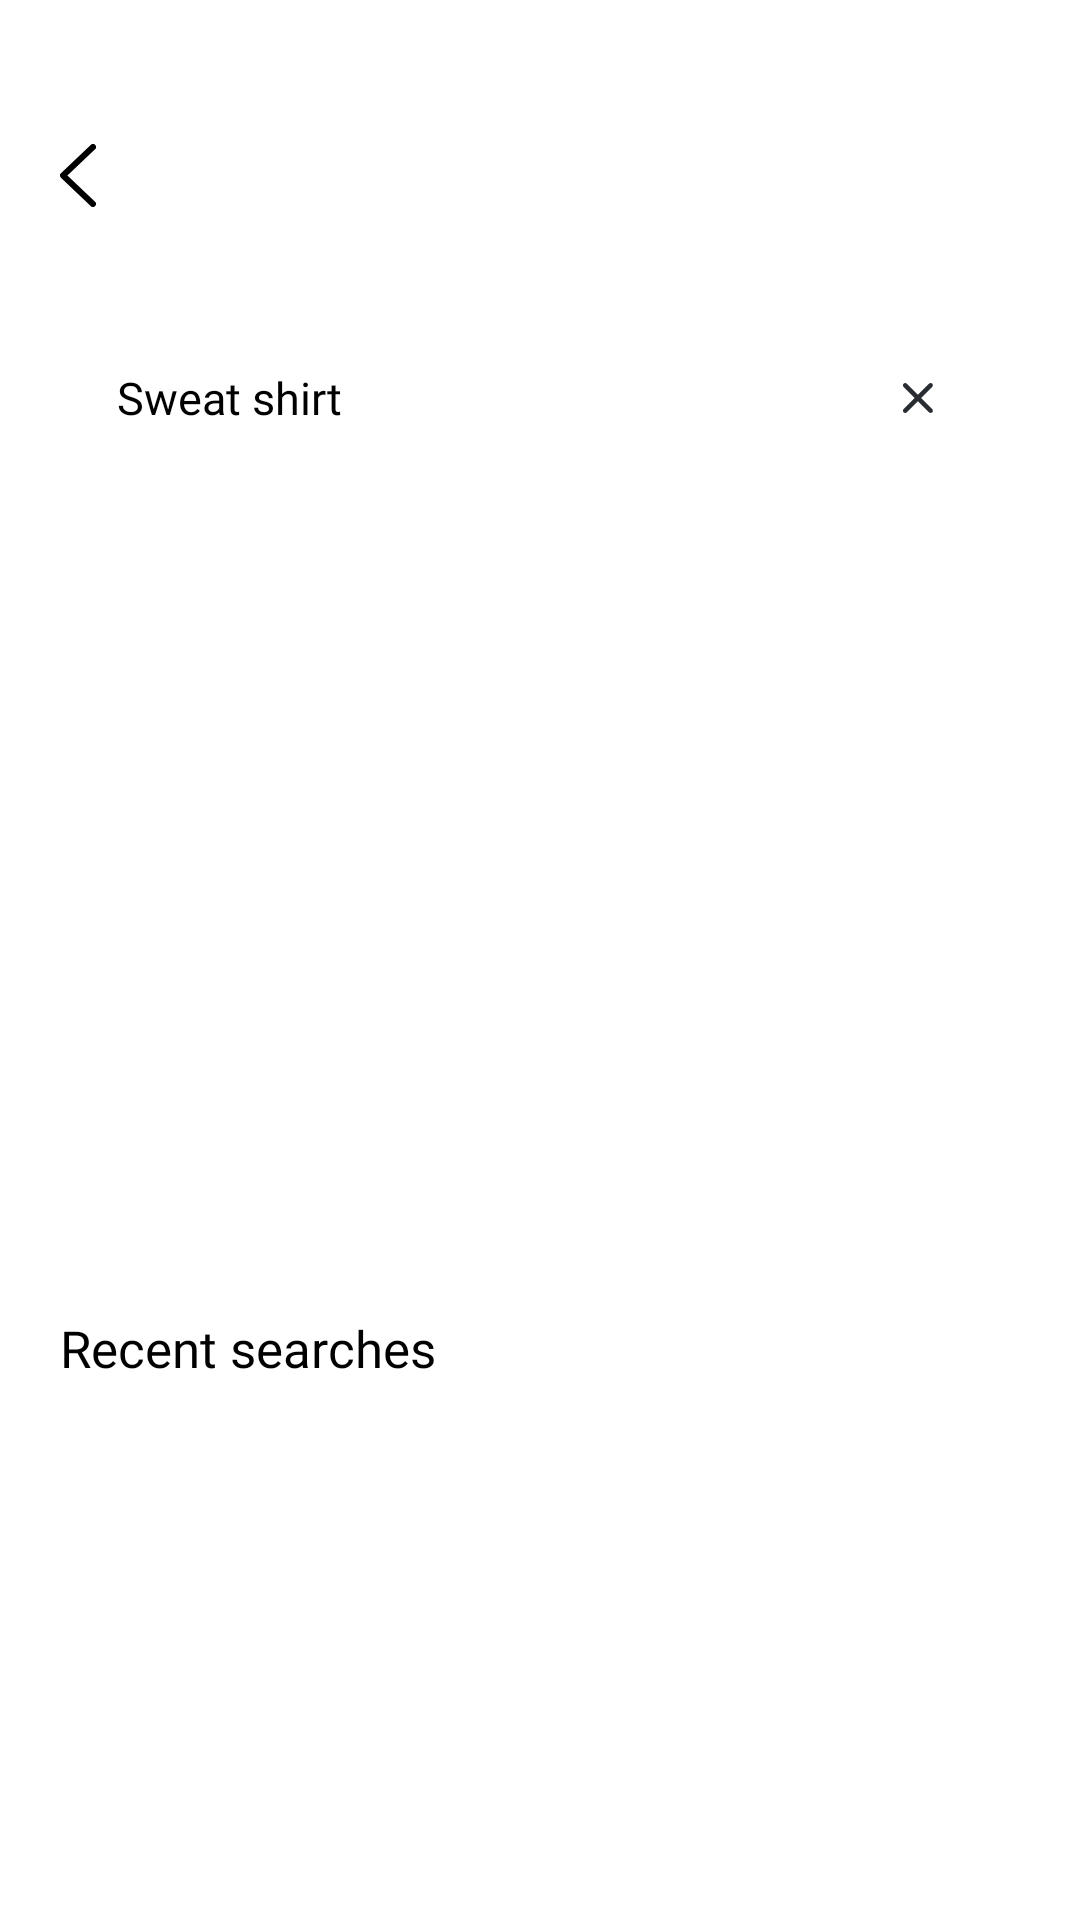

Point at icon controls on the screen. Image size 1080×1920, points as (x=x, y=y).
crossicon: (x=918, y=398)
leftarrow: (x=78, y=175)
